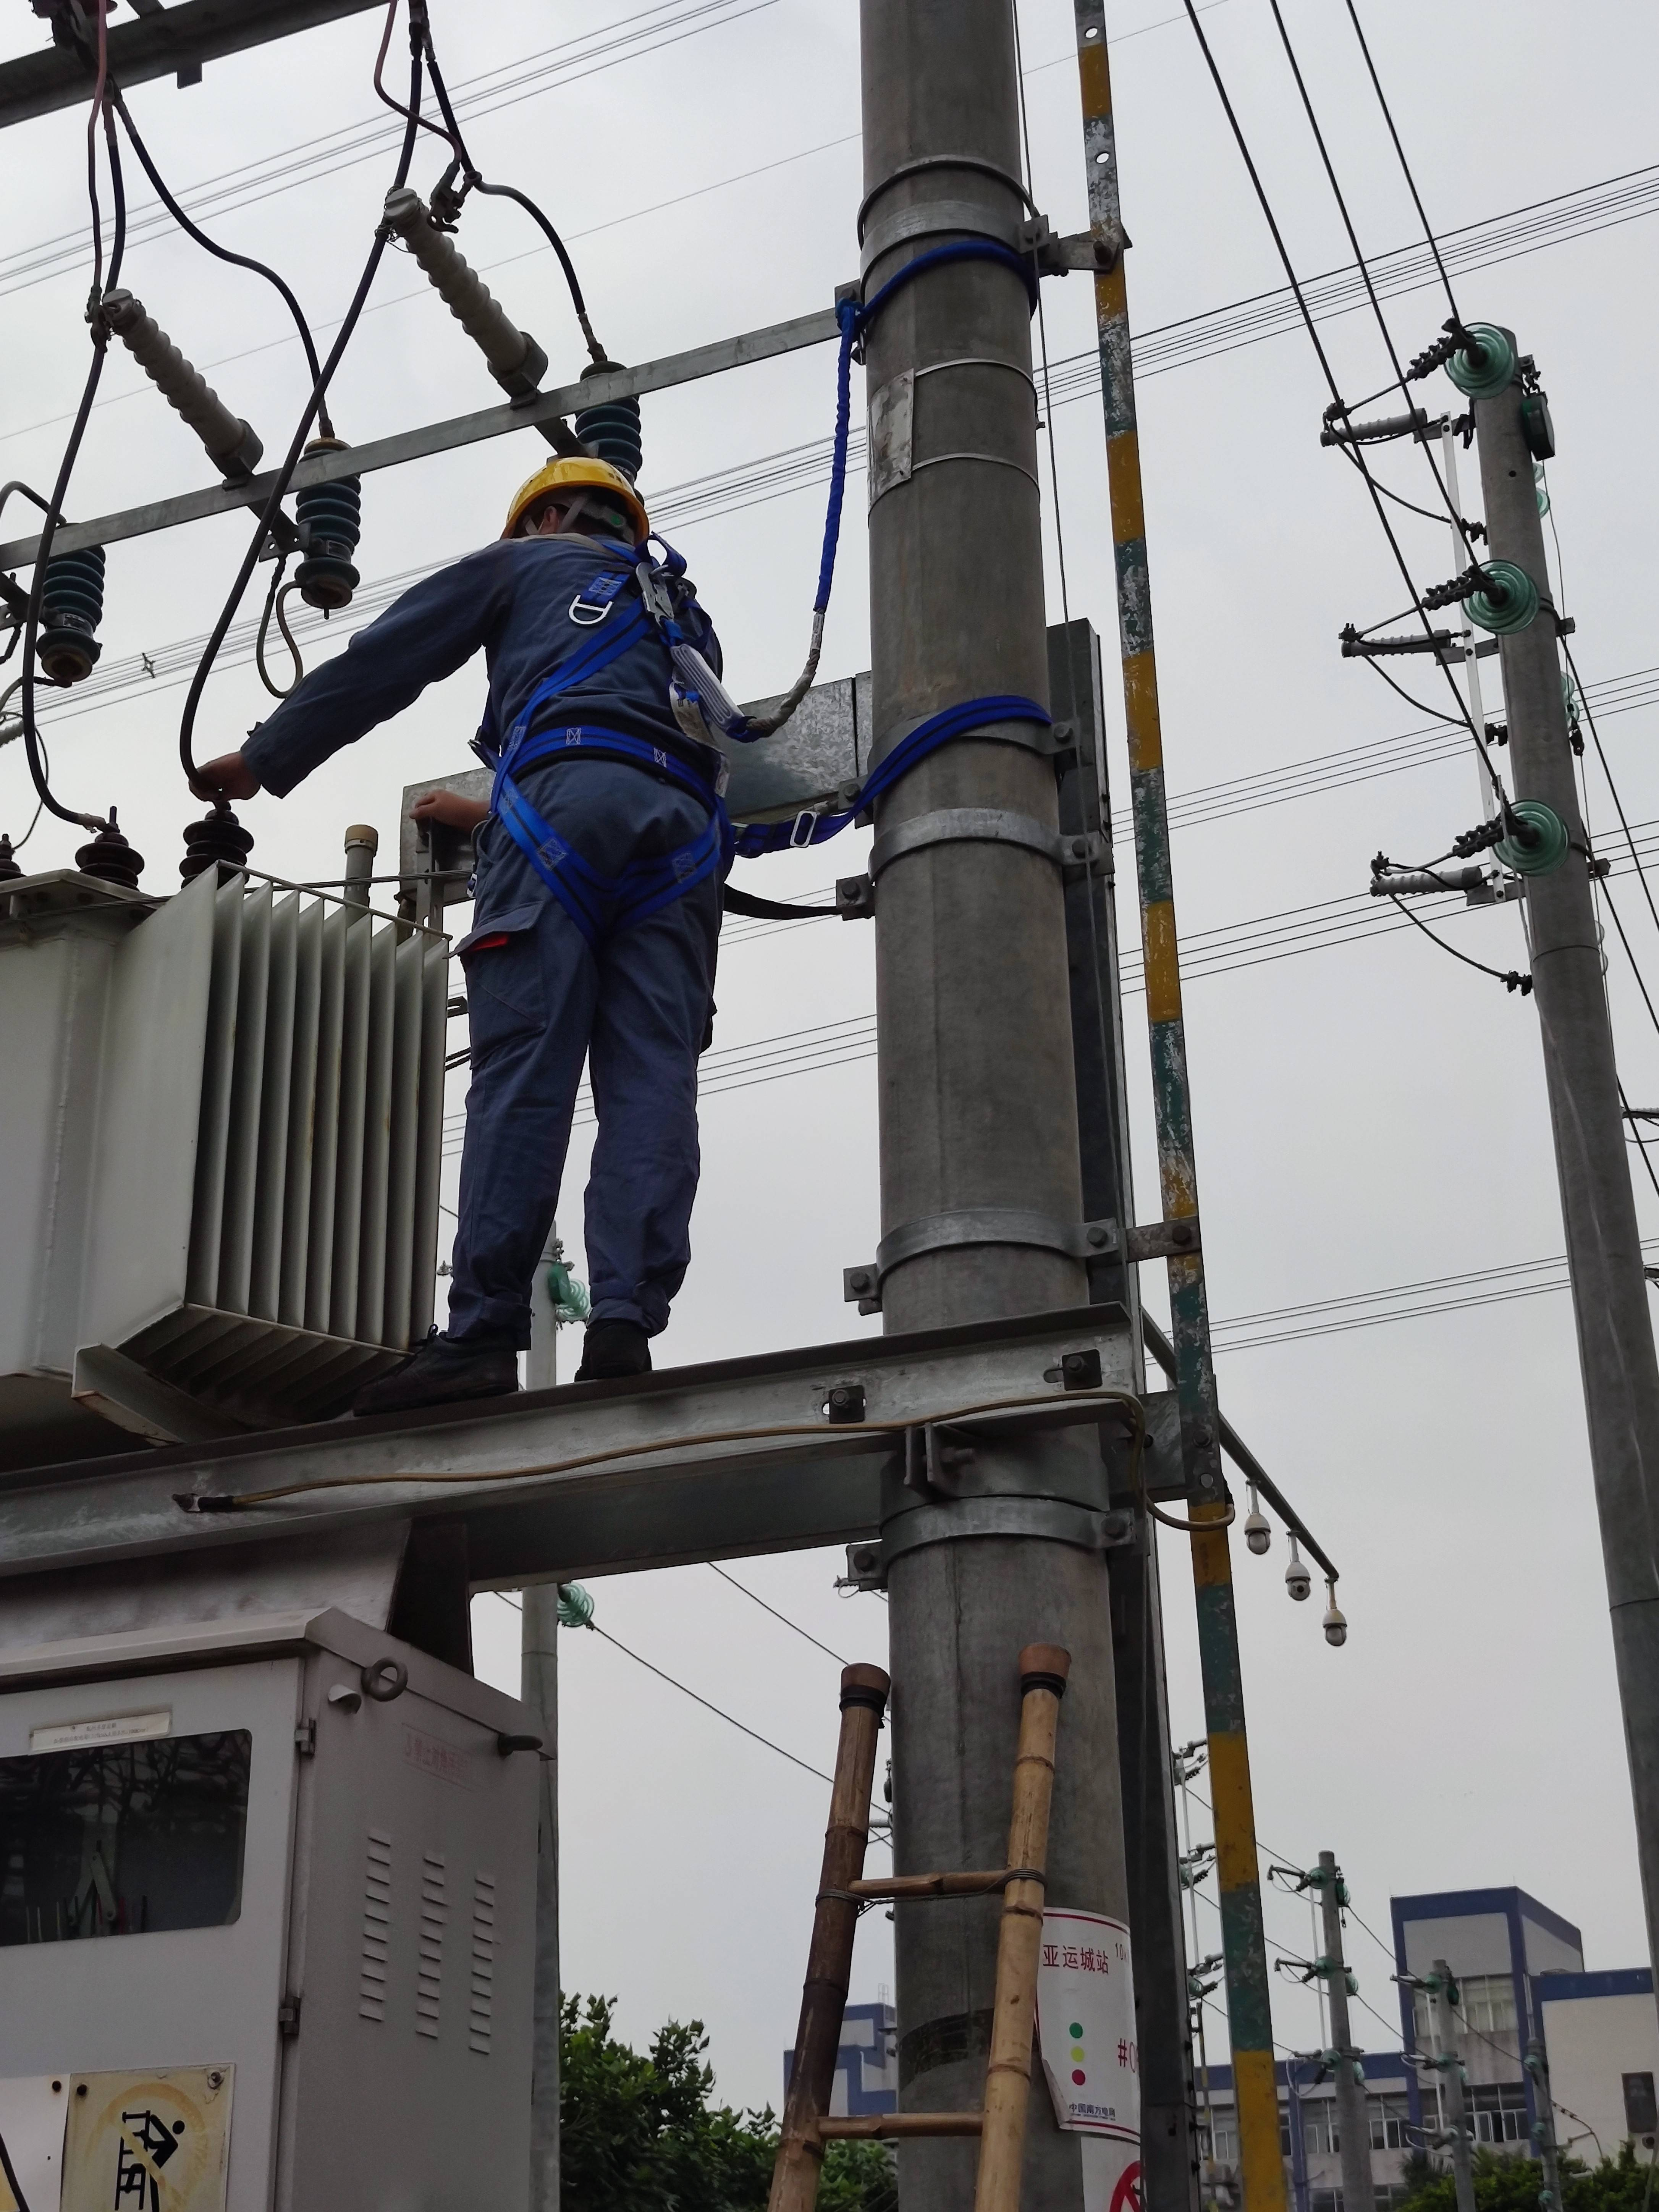downsuit: (441, 784, 735, 1327)
upsuit: (265, 538, 725, 759)
